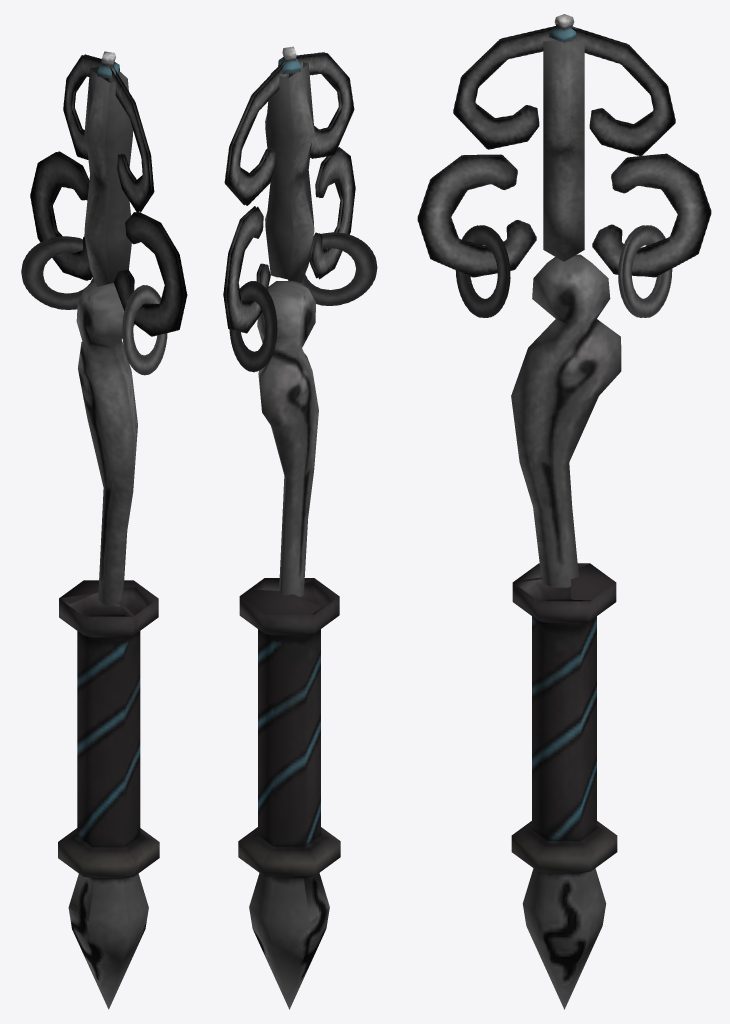
File: WP_1H_Club09.FBX
The picture shows the model from 3 angles, left to right: view 1: azimuth 30°, elevation 25°; view 2: azimuth 150°, elevation 25°; view 3: azimuth 270°, elevation 25°; orthographic projection. The views are drawn at different scales.
Visible parts, largest first — view 1: WP_1H_Club09; view 2: WP_1H_Club09; view 3: WP_1H_Club09.
Part boxes in pixels (x1,y1,x2,y2): WP_1H_Club09: (21, 51, 187, 1009); WP_1H_Club09: (223, 46, 377, 1009); WP_1H_Club09: (417, 14, 711, 1009).
Bounding box in the file's own units: 11.01 × 117 × 32.21.
1 material, 1 textured.
